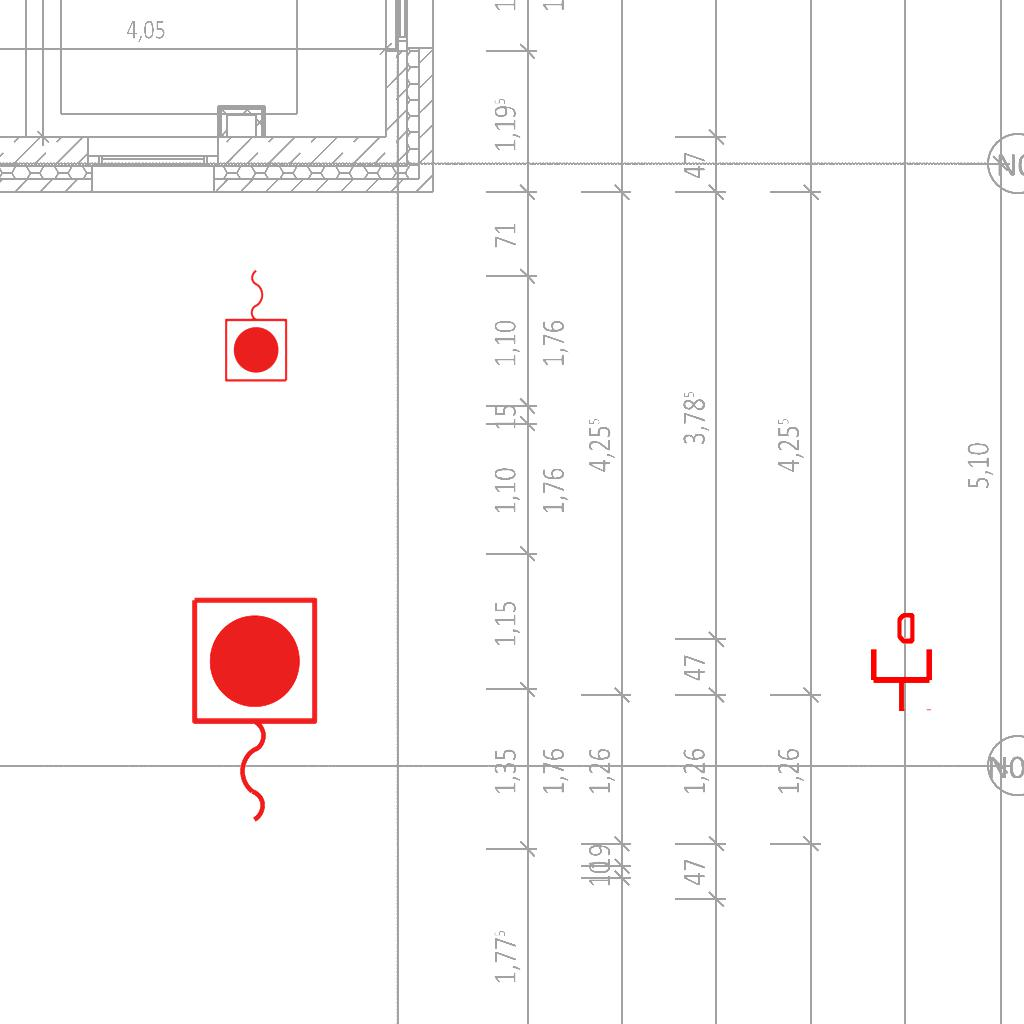Datenanschluss_einfach: (867, 613, 936, 713)
Zugtaster: (181, 589, 325, 833), (221, 264, 293, 386)
